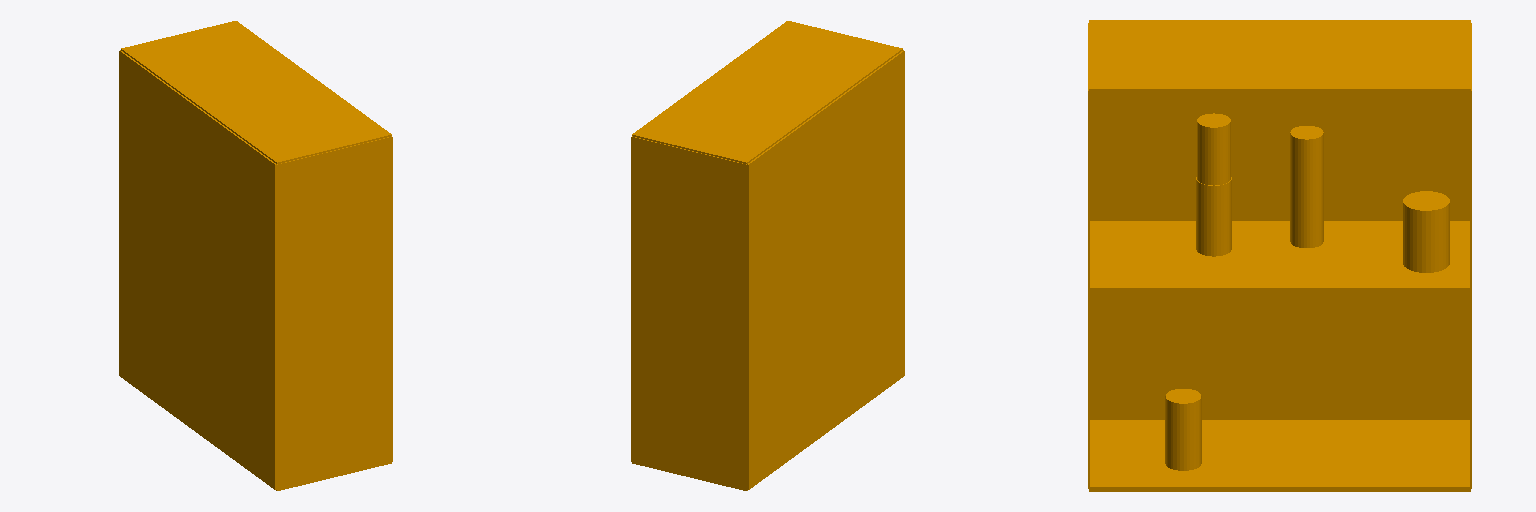
URDF robot description (syn_can_cabinet_597):
<?xml version="1.0" ?>
<robot name="syn_can_cabinet_597">
    <link concave="yes" name="base_link">
        <inertial>
            <origin rpy="0 0 0" xyz="0 0 0"/>
            <mass value="0.0"/>
            <inertia ixx="1e-08" ixy="0" ixz="0" iyy="1e-08" iyz="0" izz="1e-08"/>
        </inertial>
        <visual>
            <origin xyz="0 0 0" rpy="0 0 0" />
            <geometry>
                <mesh filename="syn_can_cabinet_597.obj" scale="1.000000 1.000000 1.000000"/>
            </geometry>         
        </visual>

        <collision concave="yes">
            <origin xyz="0 0 0" rpy="0 0 0"/>
            <geometry>
                <mesh filename="syn_can_cabinet_597.obj" scale="1.000000 1.000000 1.000000"/>
            </geometry>
        </collision>
    </link>
</robot>
    

--- Render facts (derived) ---
The picture shows the robot from 3 angles, left to right: view 1: azimuth 30°, elevation 25°; view 2: azimuth 150°, elevation 25°; view 3: azimuth 270°, elevation 25°; orthographic projection.
Robot: syn_can_cabinet_597 — 1 links, 0 joints (none); root link base_link; default pose: every joint at zero.
Visible links, largest first — view 1: base_link; view 2: base_link; view 3: base_link.
Link boxes in pixels (bbox=[...]): base_link: bbox=[119, 21, 392, 490]; base_link: bbox=[631, 21, 904, 490]; base_link: bbox=[1088, 20, 1471, 491].
Bounding box of the posed robot: 0.2113 × 0.4914 × 0.5683 m (x, y, z).
Meshes: 1 distinct files referenced, 1 mesh visuals loaded (1 OBJ).
